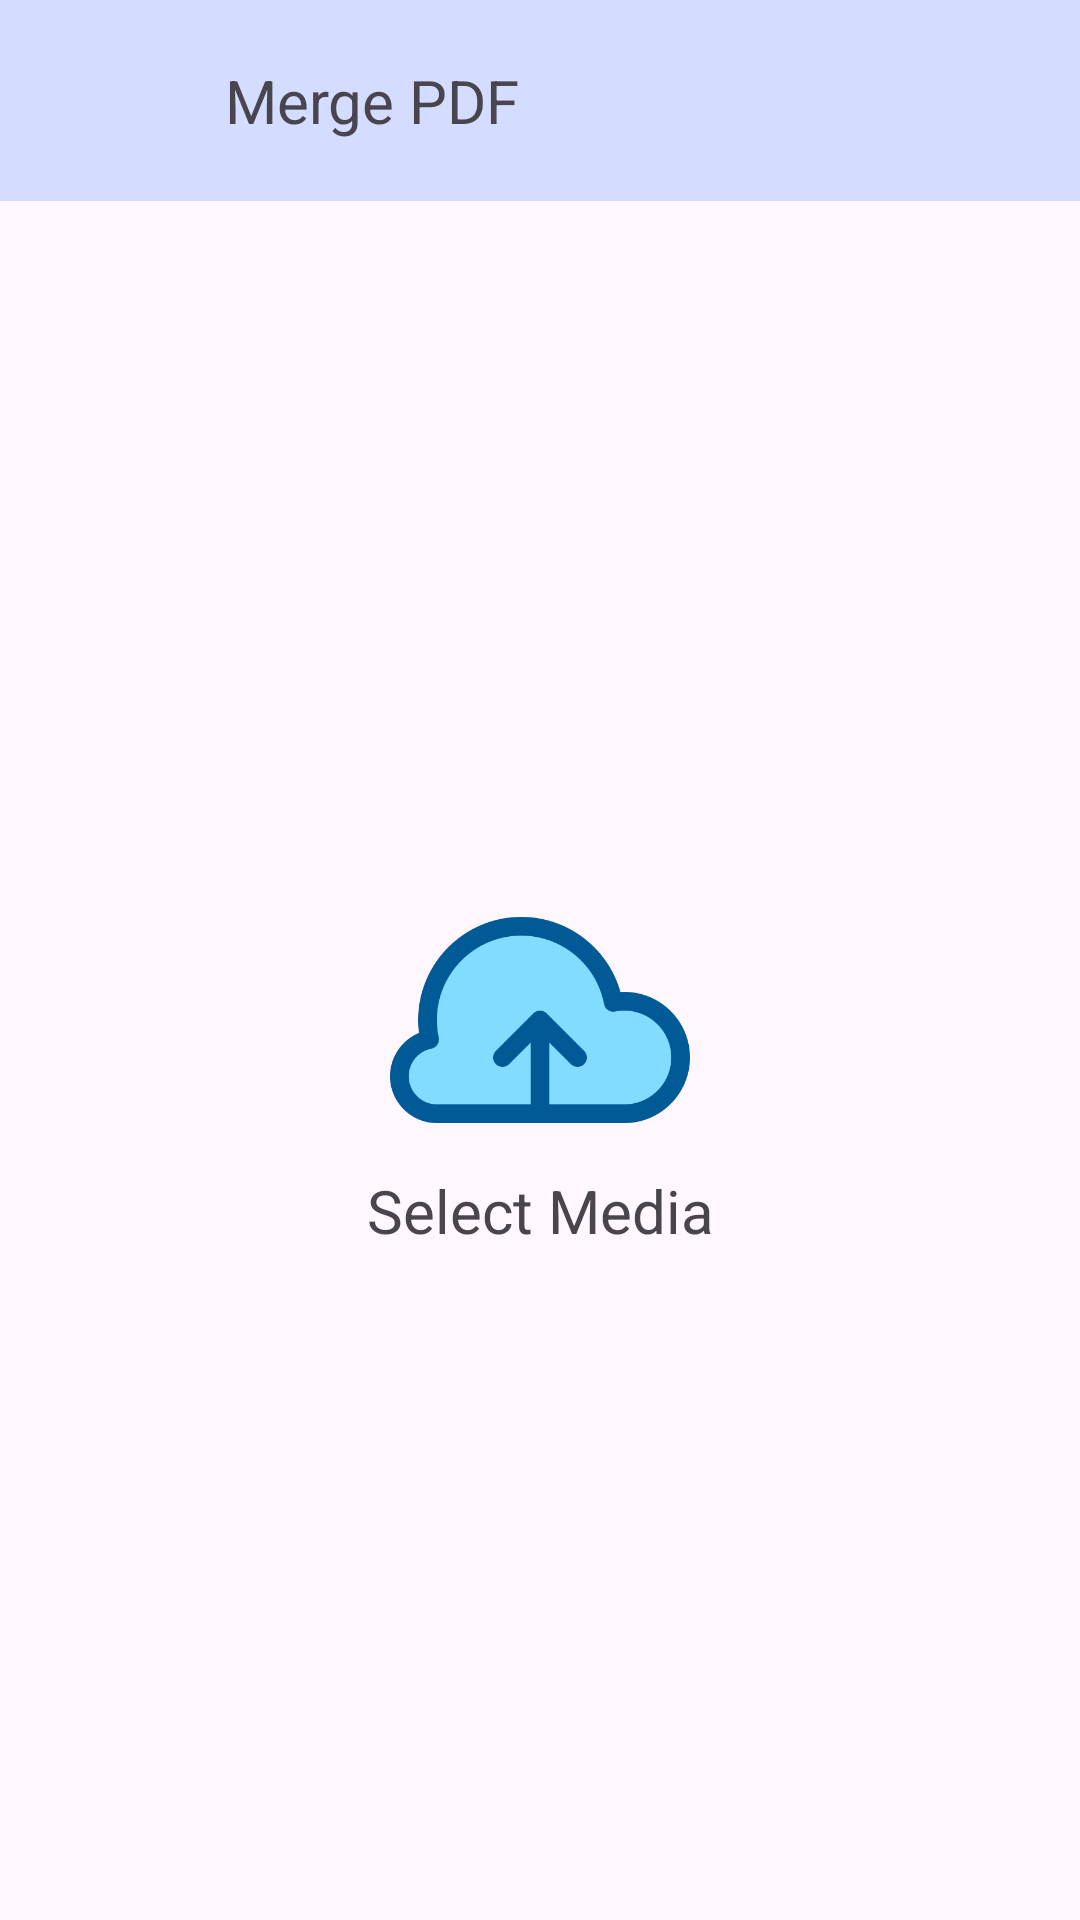

Icon bounding boxes for this 1080 × 1920 phone screenshot, format (x1, y1, x2, y2):
upload: (390, 917, 690, 1123)
